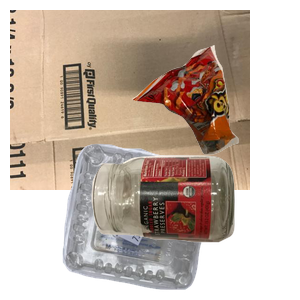cardboard: (10, 10, 250, 190)
glass: (89, 153, 300, 300)
plastic: (60, 141, 263, 300)
trash: (130, 43, 300, 190)
